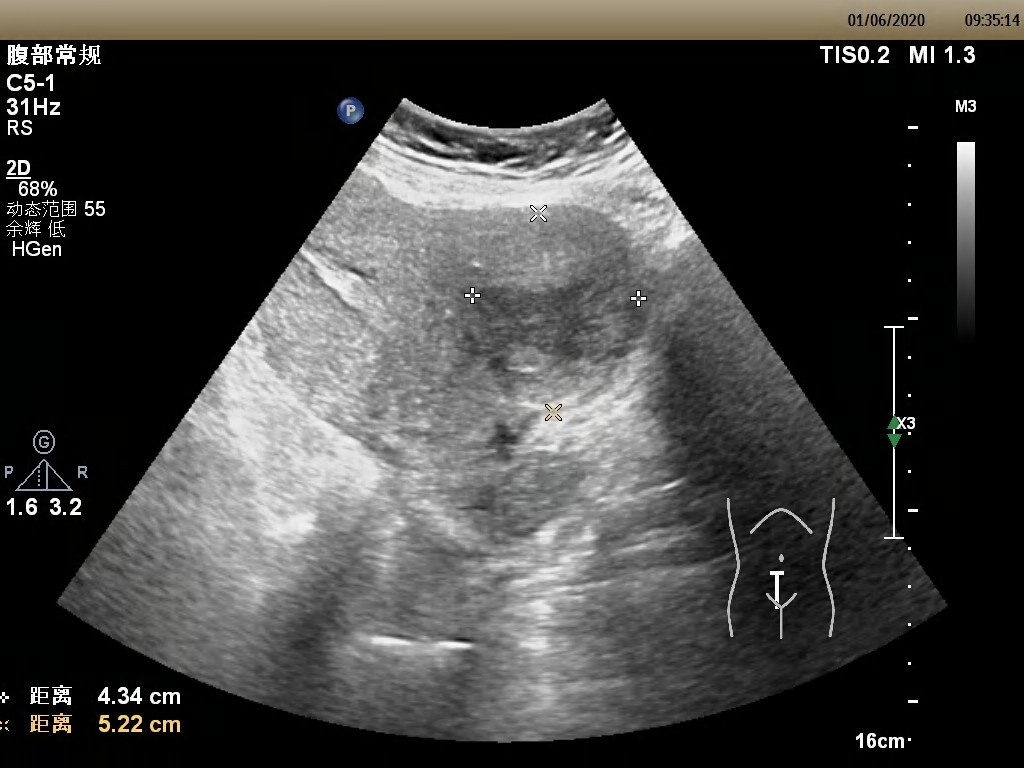肌瘤: (459, 207, 646, 407)
